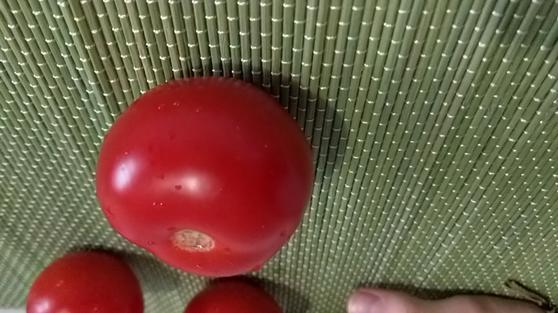tomato: (93, 74, 317, 284), (28, 240, 143, 313)
